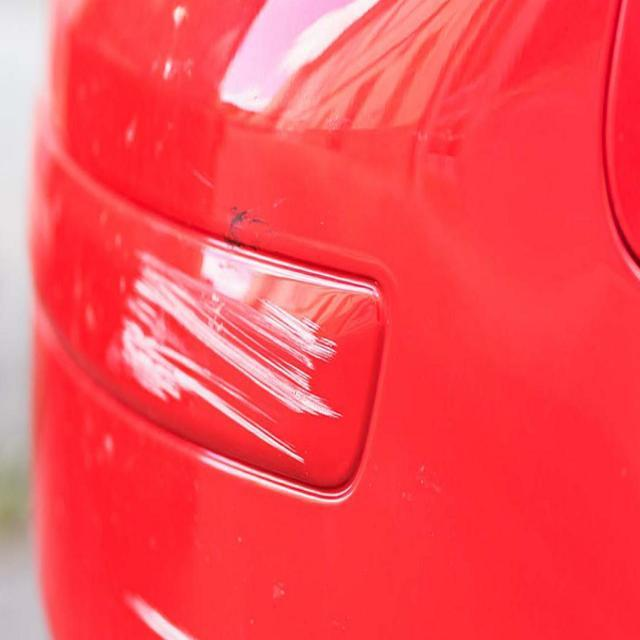scratch: (113, 236, 350, 468)
